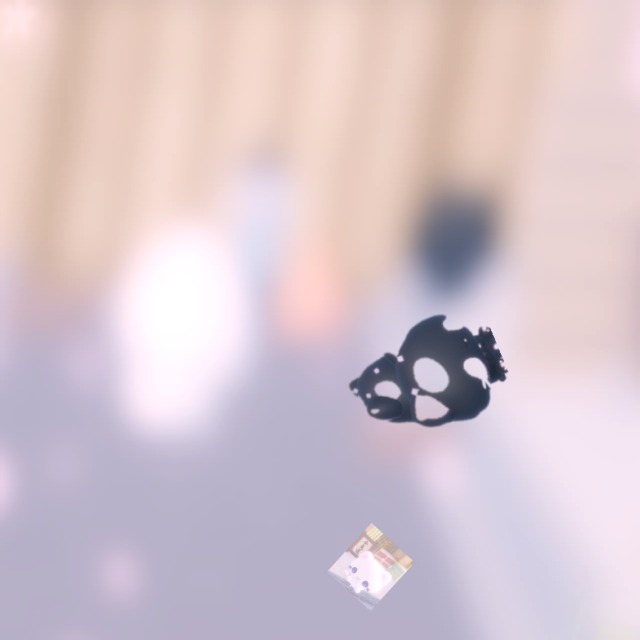urso_branco: (327, 523, 415, 611)
urso_preto: (322, 287, 522, 466)
